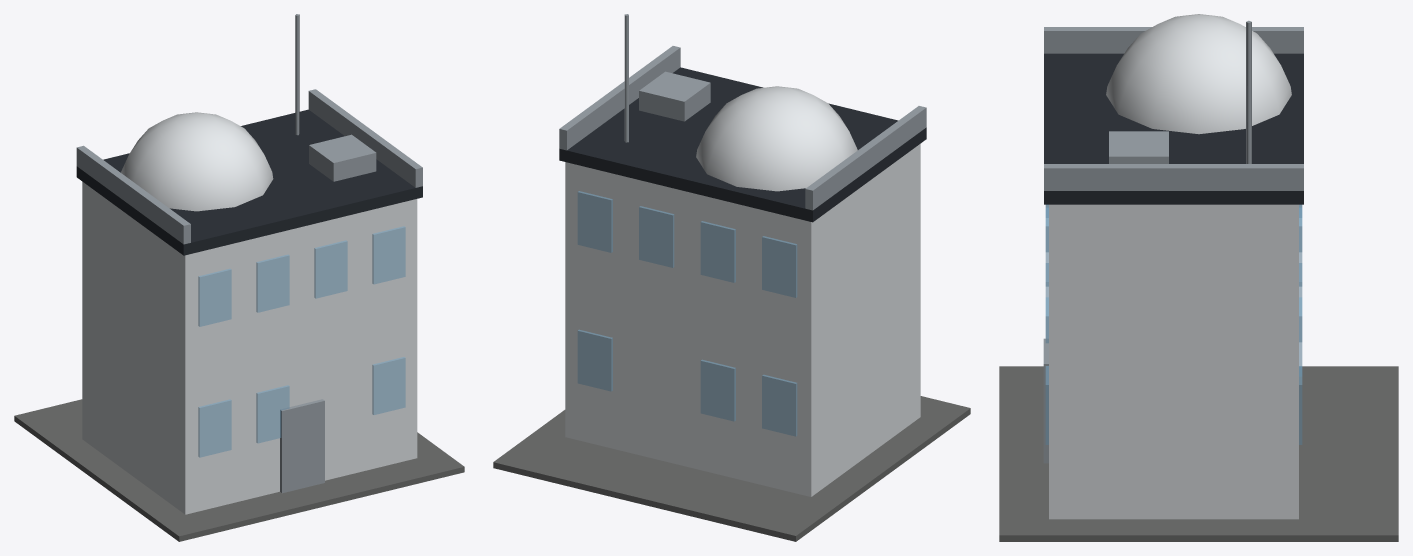
The model's file is bld_special_laboratory_a08.glb.
3 renders of one model, left to right at view 1: azimuth 30°, elevation 25°; view 2: azimuth 150°, elevation 25°; view 3: azimuth 270°, elevation 25°, orthographic. The views are drawn at different scales.
Parts seen in each view (by area): view 1: body; view 2: body; view 3: body.
Part boxes in pixels (bbox=[...]): body: bbox=[14, 14, 464, 541]; body: bbox=[493, 14, 970, 541]; body: bbox=[999, 14, 1398, 541].
Size of what is drawn, in the model's own units: 8 by 10.65 by 8.
